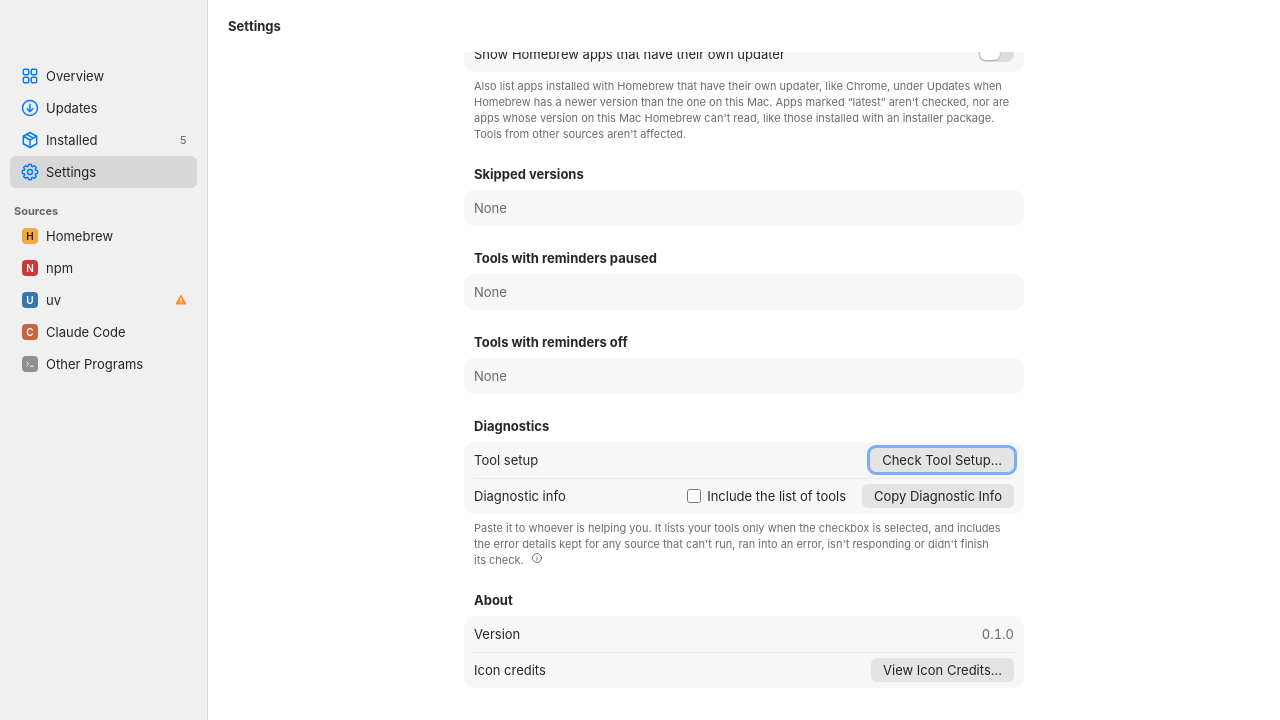
Test: ToolSetupSheet › opens from Settings' Check… and gives the focus back to it on Done, having changed nothing
(page scrolled)
Click the button "Check Tool Setup…" at (942, 460), box [870, 448, 1014, 472]
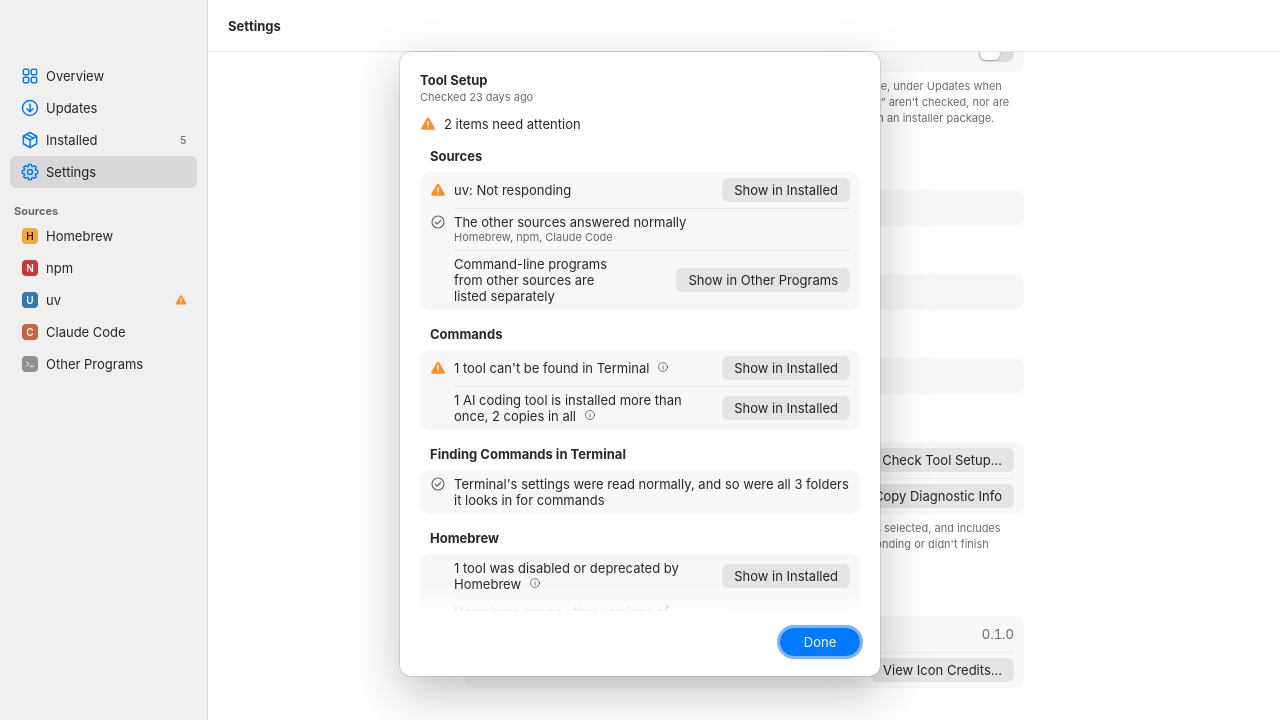
Click the button "Done" at (820, 642), box [780, 628, 860, 656]
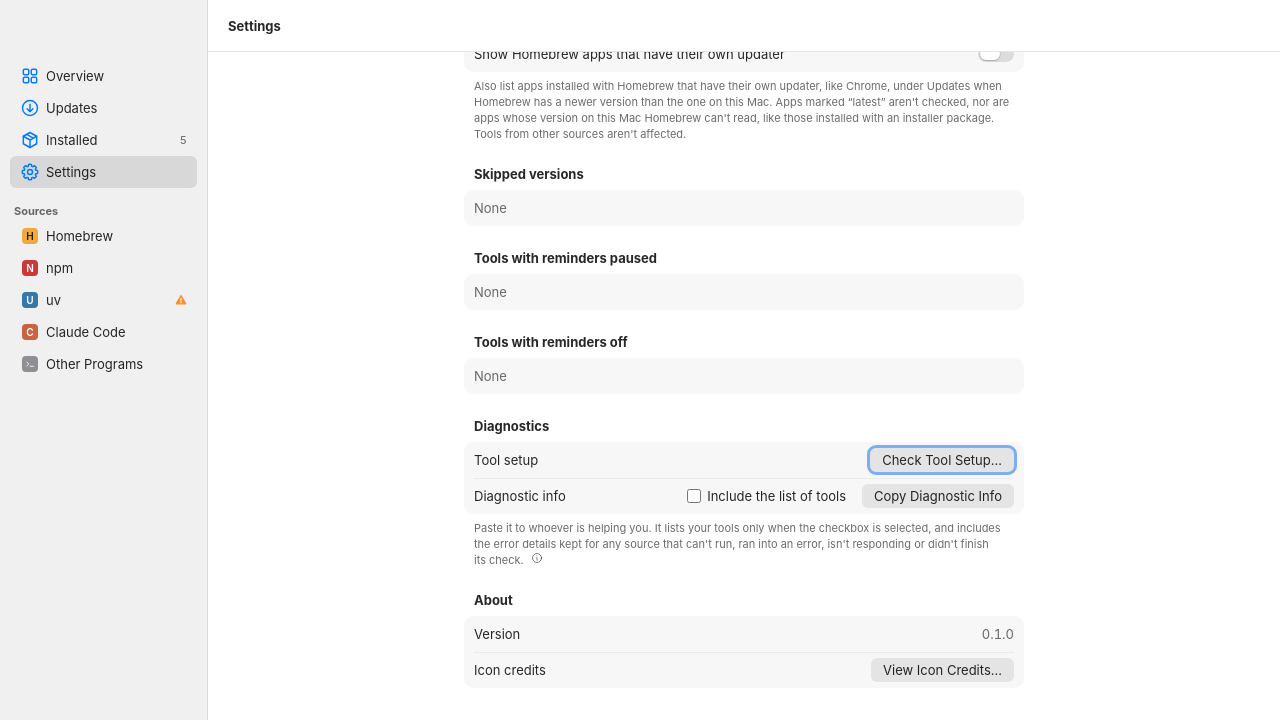
Check: the dialog is gone
